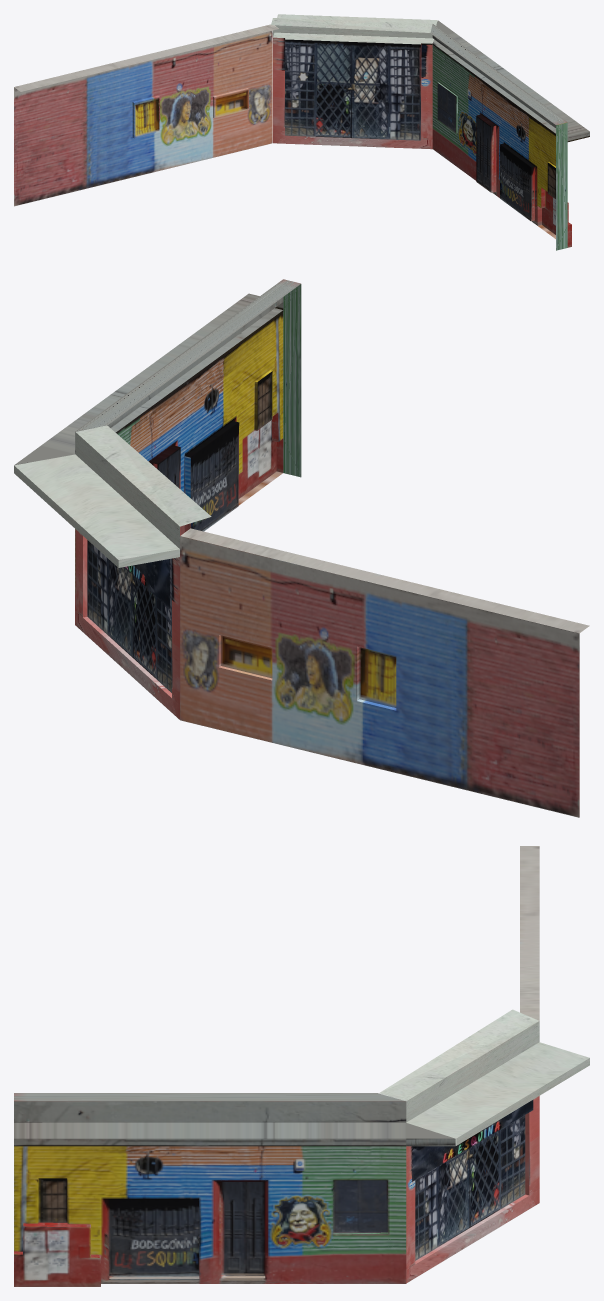
Rendered from Bodegon_Esquina_AchavalRodriguez.fbx.
3 views of the same model, one above another, from view 1: azimuth 30°, elevation 25°; view 2: azimuth 150°, elevation 25°; view 3: azimuth 270°, elevation 25° (orthographic). The views are drawn at different scales.
Parts seen in each view (by area): view 1: Building_AchavalRodriguez.001, Building_AchavalRodriguez.002, Building_AchavalRodriguez.004, Door_Bodegon; view 2: Building_AchavalRodriguez.001, Building_AchavalRodriguez.004, Building_AchavalRodriguez.002; view 3: Building_AchavalRodriguez.004, Building_AchavalRodriguez.002, Door_Bodegon, Building_AchavalRodriguez.001.
Boxes of the visible parts, box(x1,y1,x2,y2) form: Building_AchavalRodriguez.001: box(14, 24, 278, 206); Building_AchavalRodriguez.002: box(271, 14, 437, 149); Building_AchavalRodriguez.004: box(431, 20, 589, 250); Door_Bodegon: box(476, 116, 491, 192); Building_AchavalRodriguez.001: box(180, 528, 589, 817); Building_AchavalRodriguez.004: box(14, 279, 301, 624); Building_AchavalRodriguez.002: box(14, 425, 211, 719); Building_AchavalRodriguez.004: box(14, 1093, 455, 1286); Building_AchavalRodriguez.002: box(379, 1009, 589, 1283); Door_Bodegon: box(221, 1182, 265, 1274); Building_AchavalRodriguez.001: box(520, 846, 539, 1020).
Size of the model in its own units: 33.6 by 10.39 by 29.18.
